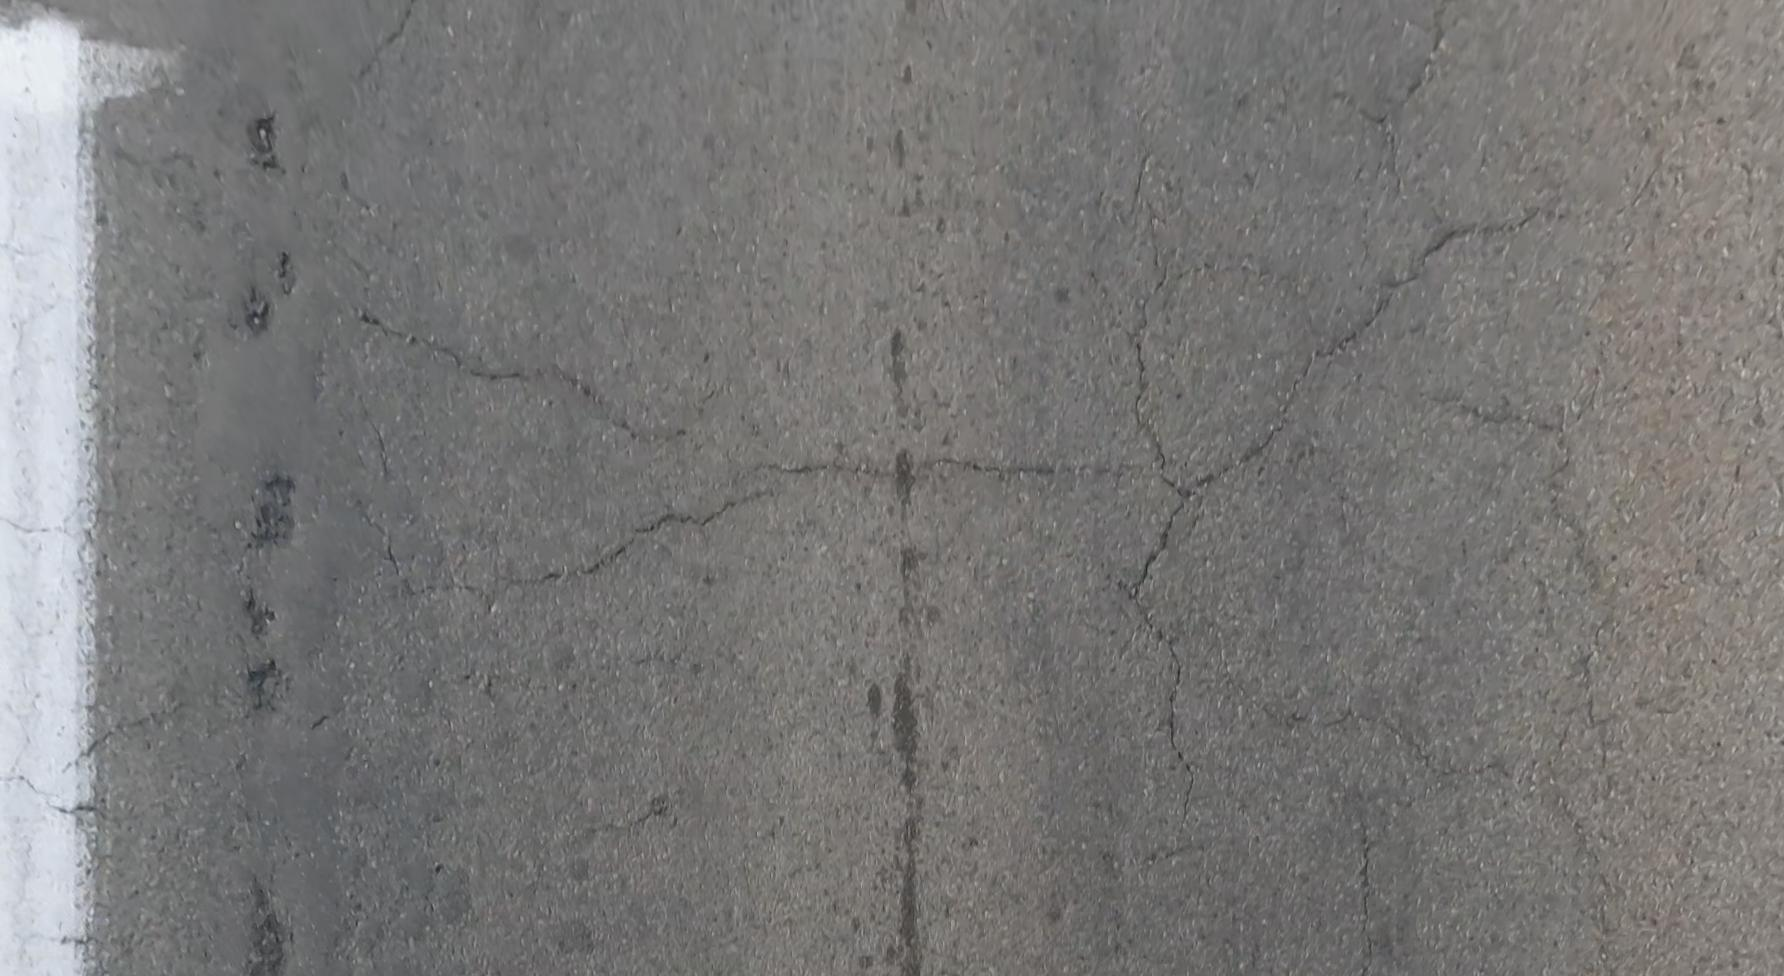pothole_patch_poor: (180, 2, 364, 974)
